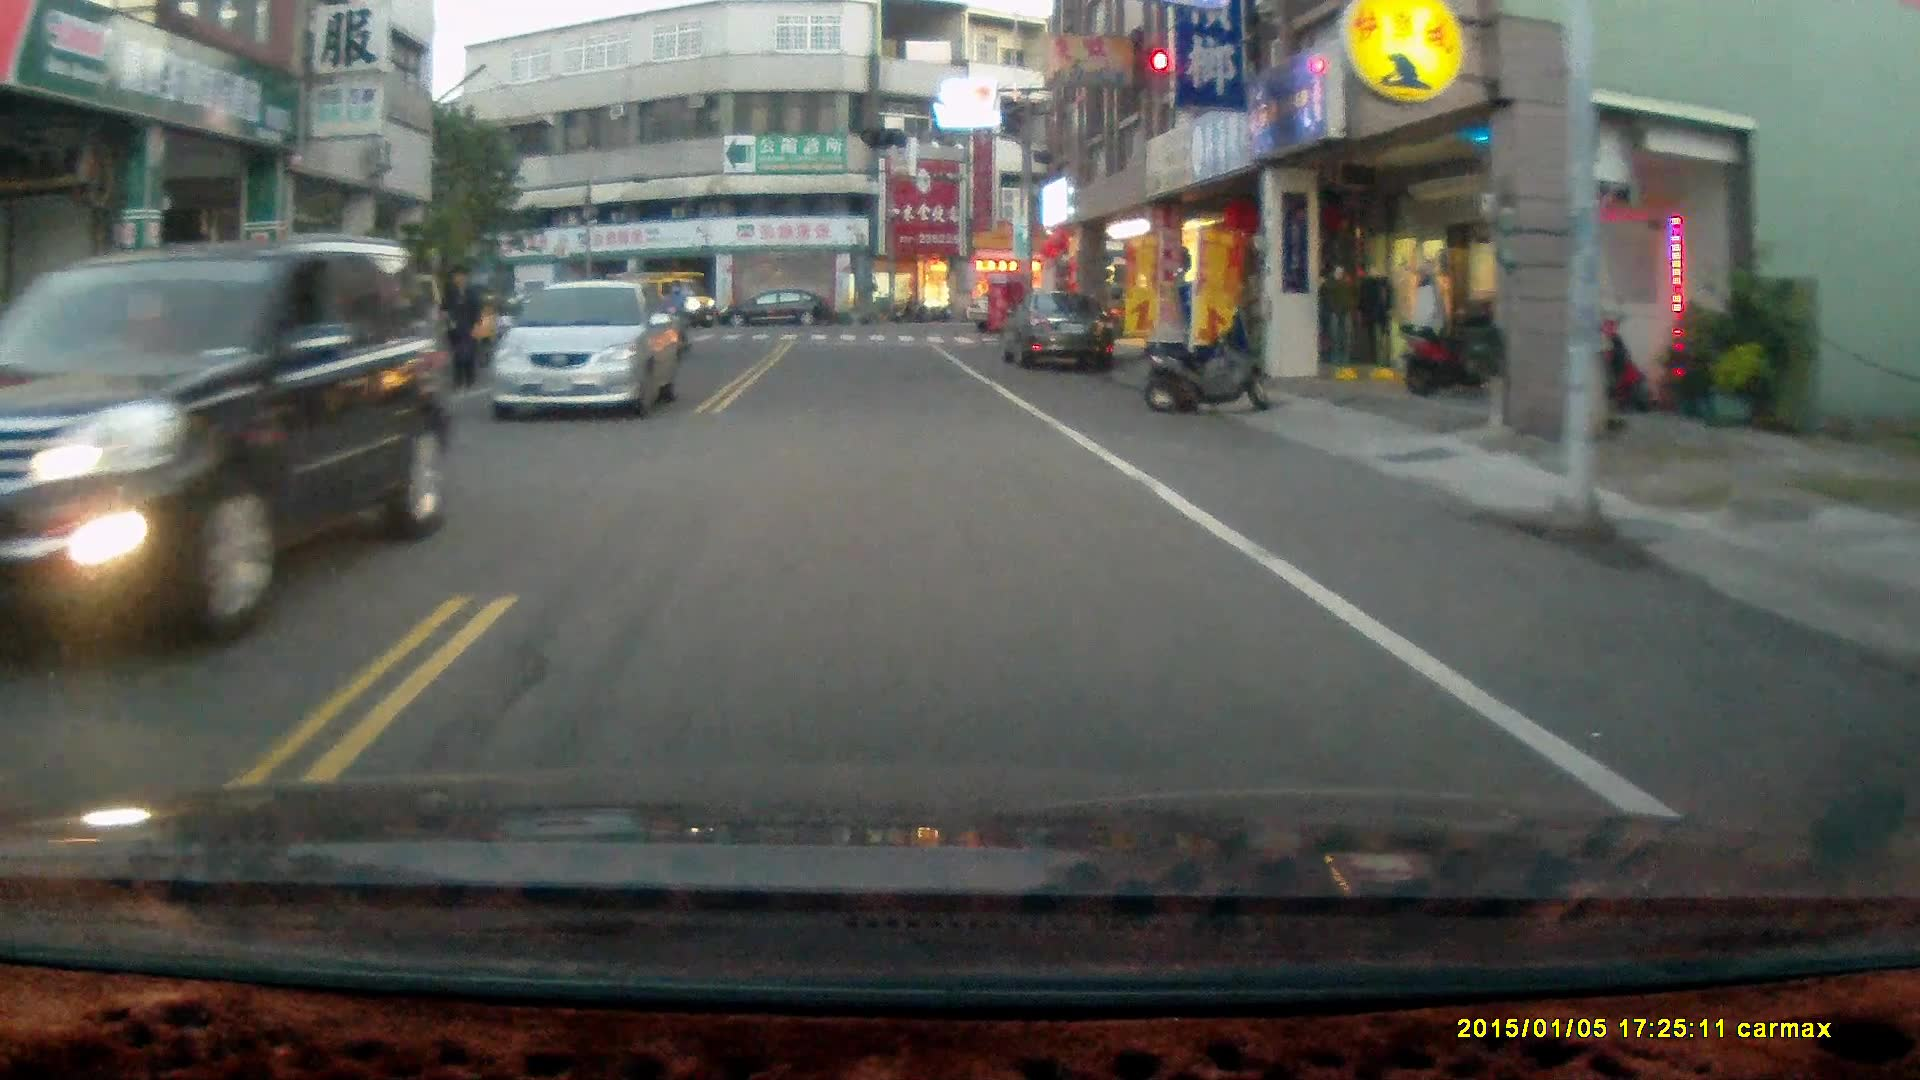pedestrian: (440, 263, 485, 391)
rider: (653, 279, 690, 370)
vehicle: (1, 237, 453, 684), (495, 281, 686, 422), (1000, 288, 1117, 378), (716, 287, 836, 333)
